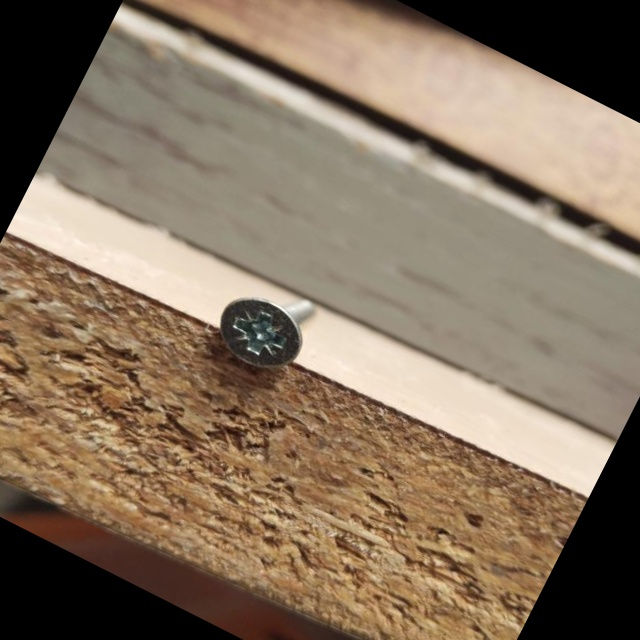pozidriv: (206, 283, 315, 383)
